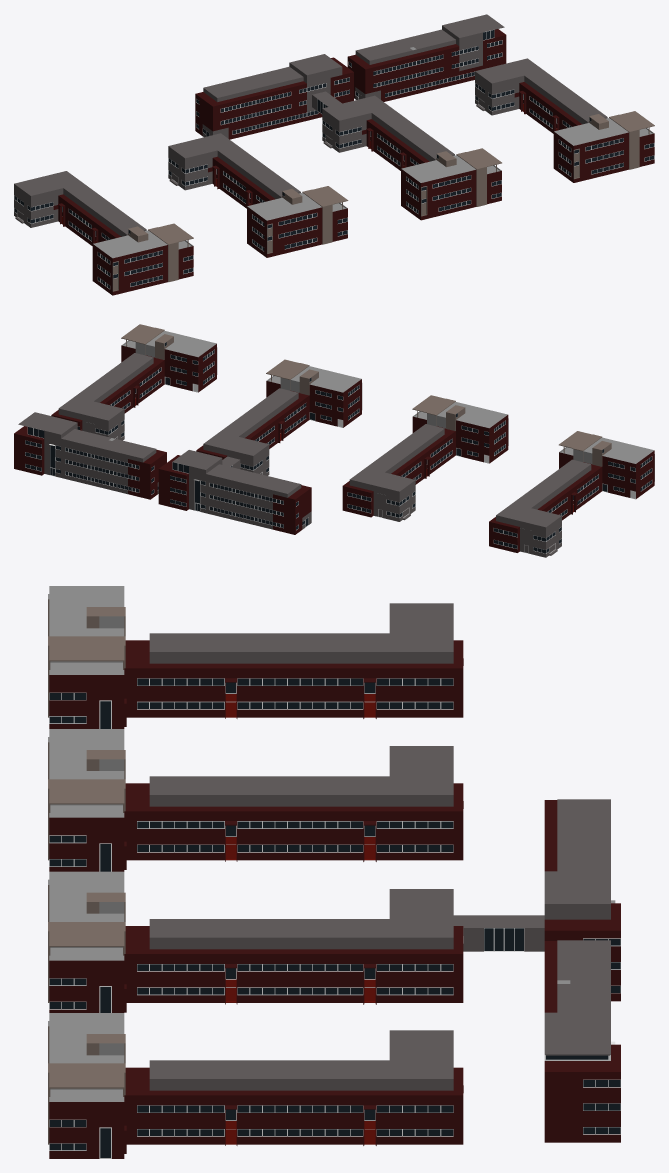
File: De_mudden.fbx
3 views of the same model, one above another, from view 1: azimuth 30°, elevation 25°; view 2: azimuth 150°, elevation 25°; view 3: azimuth 270°, elevation 25° (orthographic). The views are drawn at different scales.
Parts seen in each view (by area): view 1: Box005, Box015, Box016, Box014, Box013, Box009; view 2: Box014, Box015, Box005, Box016, Box009, Box013; view 3: Box005, Box016, Box015, Box014, Box013, Box009.
Boxes of the visible parts, x1=… form: Box005: x1=312, y1=91, x2=501, y2=220; Box015: x1=14, y1=171, x2=193, y2=295; Box016: x1=475, y1=58, x2=654, y2=182; Box014: x1=168, y1=133, x2=348, y2=257; Box013: x1=347, y1=14, x2=506, y2=101; Box009: x1=195, y1=54, x2=353, y2=139; Box014: x1=342, y1=395, x2=508, y2=521; Box015: x1=489, y1=431, x2=654, y2=557; Box005: x1=196, y1=359, x2=362, y2=475; Box016: x1=51, y1=324, x2=217, y2=440; Box009: x1=158, y1=450, x2=311, y2=534; Box013: x1=14, y1=412, x2=166, y2=499; Box005: x1=48, y1=871, x2=544, y2=1012; Box016: x1=48, y1=1013, x2=463, y2=1158; Box015: x1=48, y1=586, x2=463, y2=728; Box014: x1=48, y1=729, x2=463, y2=871; Box013: x1=544, y1=940, x2=620, y2=1142; Box009: x1=544, y1=799, x2=620, y2=1001.
Size of the model in its own units: 1080 by 86.61 by 521.
